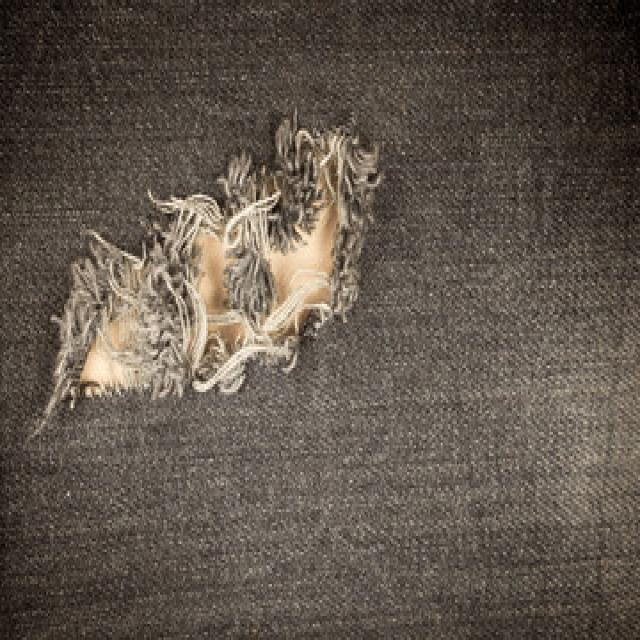Hole: (43, 119, 382, 418)
